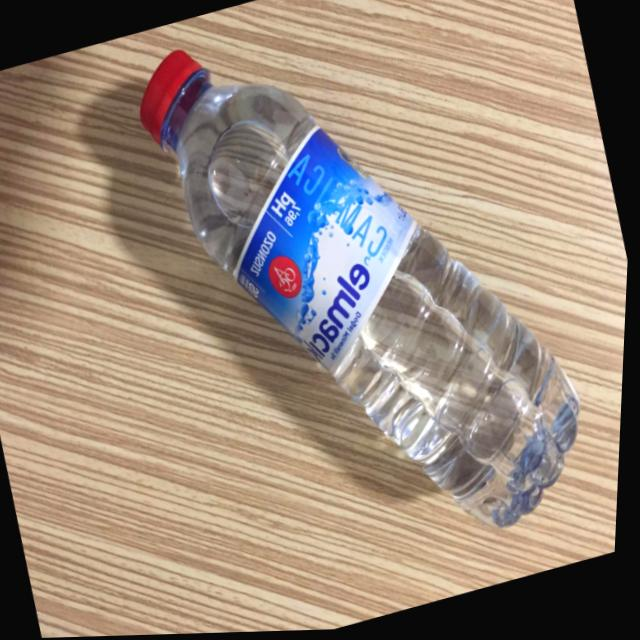anorganik: (98, 0, 629, 619)
